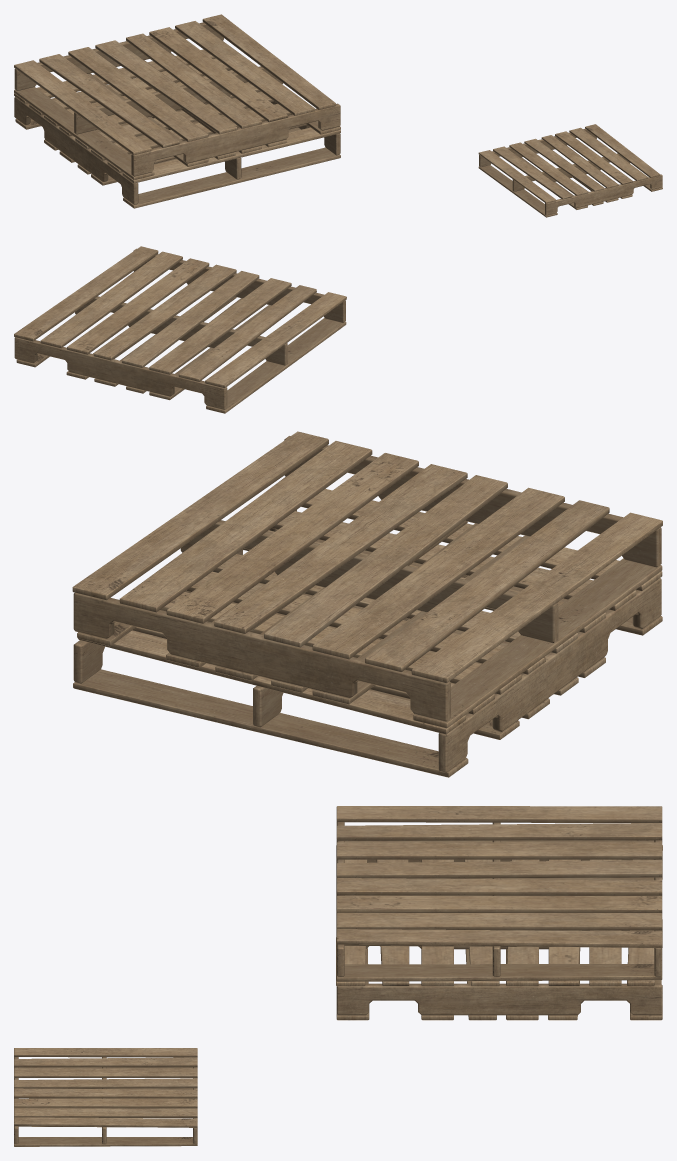
File: Pallet 1.fbx
The picture shows the model from 3 angles, top to bottom: view 1: azimuth 30°, elevation 25°; view 2: azimuth 150°, elevation 25°; view 3: azimuth 270°, elevation 25°; orthographic projection. The views are drawn at different scales.
Parts seen in each view (by area): view 1: pallet003, pallet, pallet2; view 2: pallet003, pallet, pallet2; view 3: pallet003, pallet, pallet2.
Part boxes in pixels (x1,y1,x2,y2): pallet003: (14,14,340,179); pallet: (14,49,340,208); pallet2: (478,124,662,217); pallet003: (72,431,662,728); pallet: (73,489,662,777); pallet2: (14,246,346,413); pallet003: (336,806,662,981); pallet: (336,845,662,1020); pallet2: (14,1048,197,1146).
Size of the model in its own units: 565 by 74.13 by 567.
